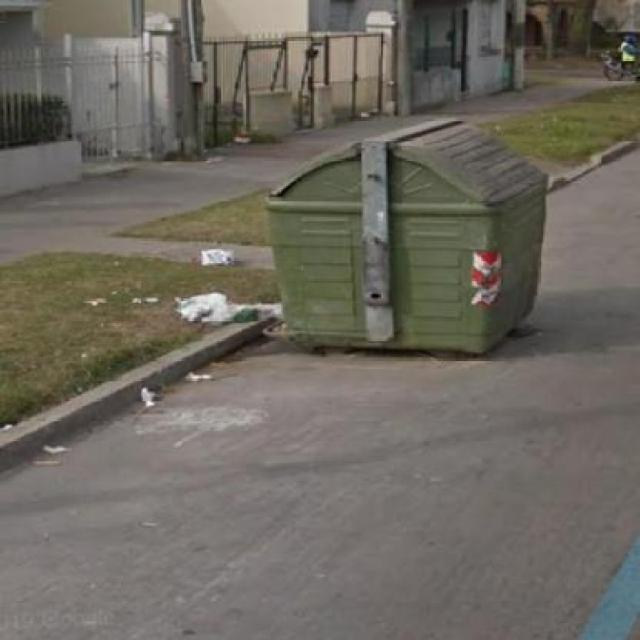garbage: (163, 288, 282, 324), (180, 229, 235, 273), (26, 442, 82, 485), (171, 362, 214, 392), (119, 379, 156, 410), (68, 292, 117, 313), (131, 285, 158, 312)
